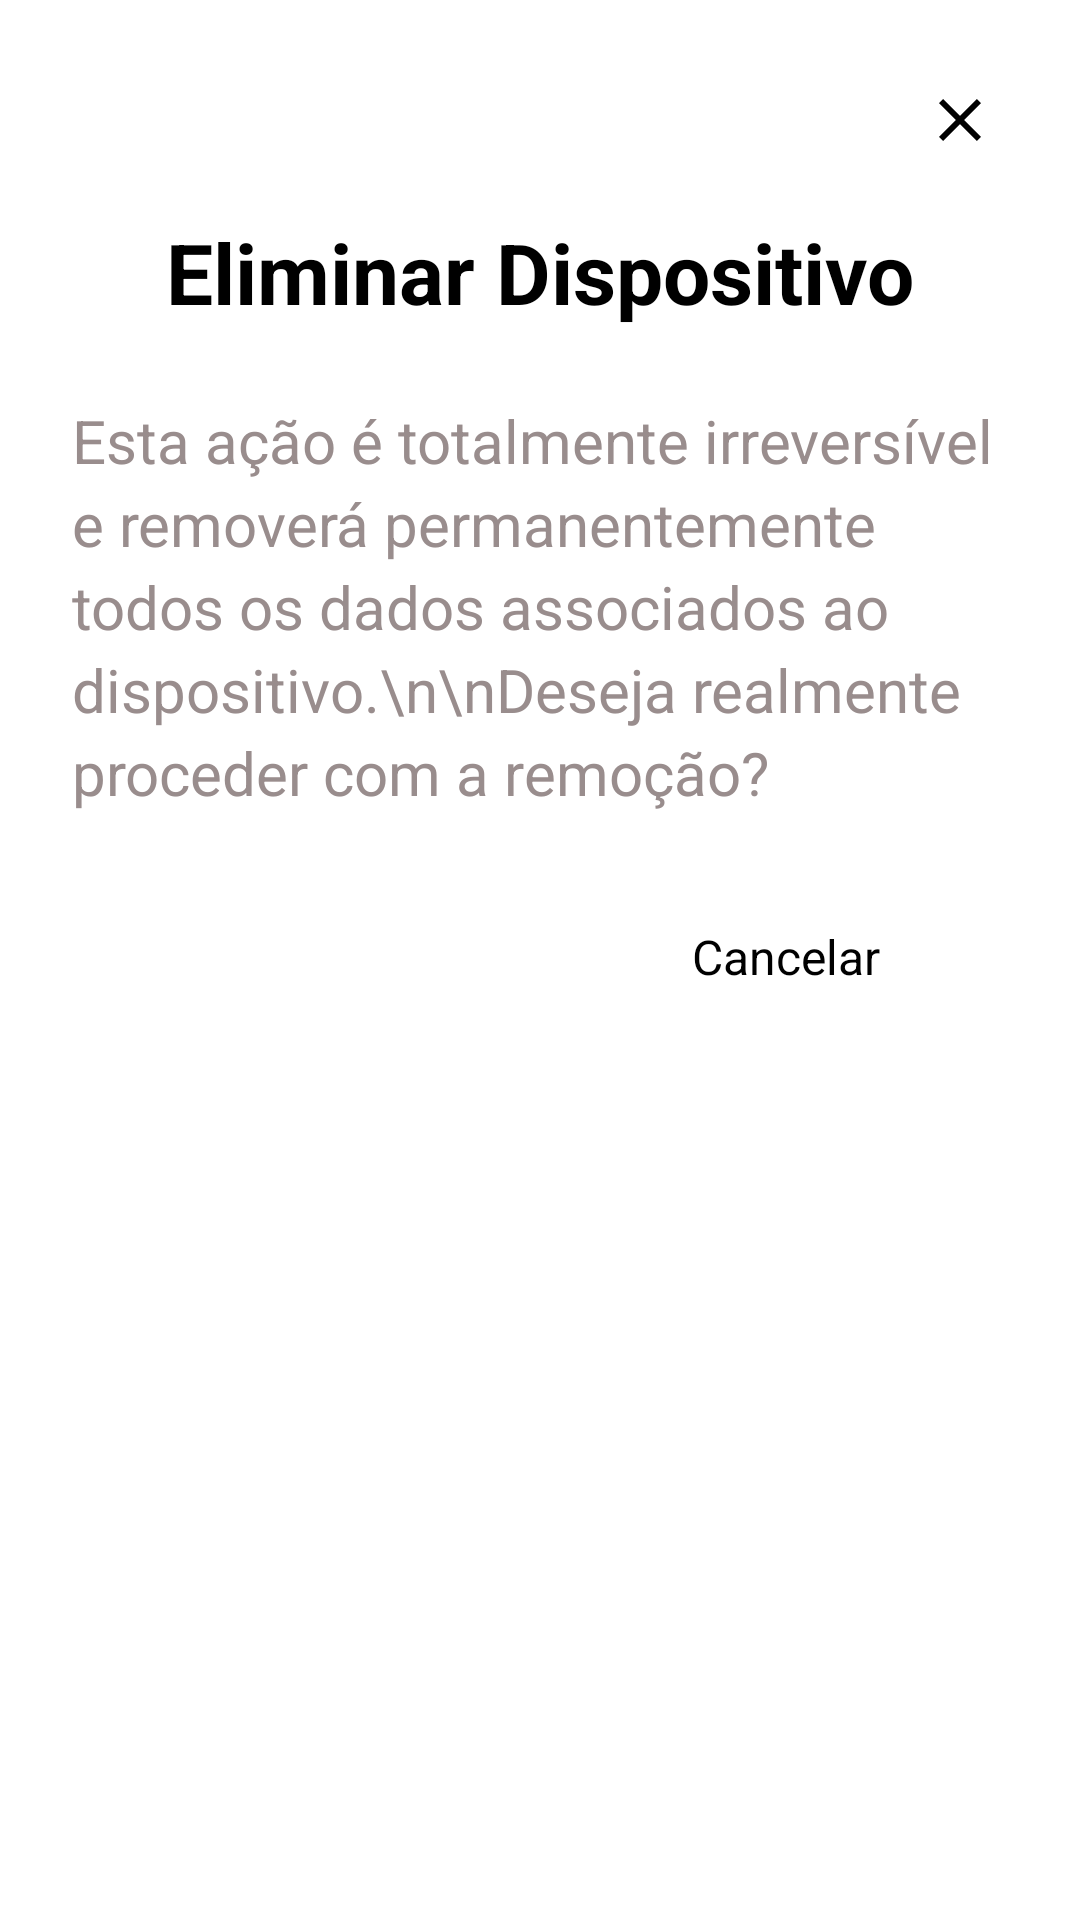

Icons on this 1080×1920 Android screen, each with the point to tap as point (x, y):
close: point (960, 120)
